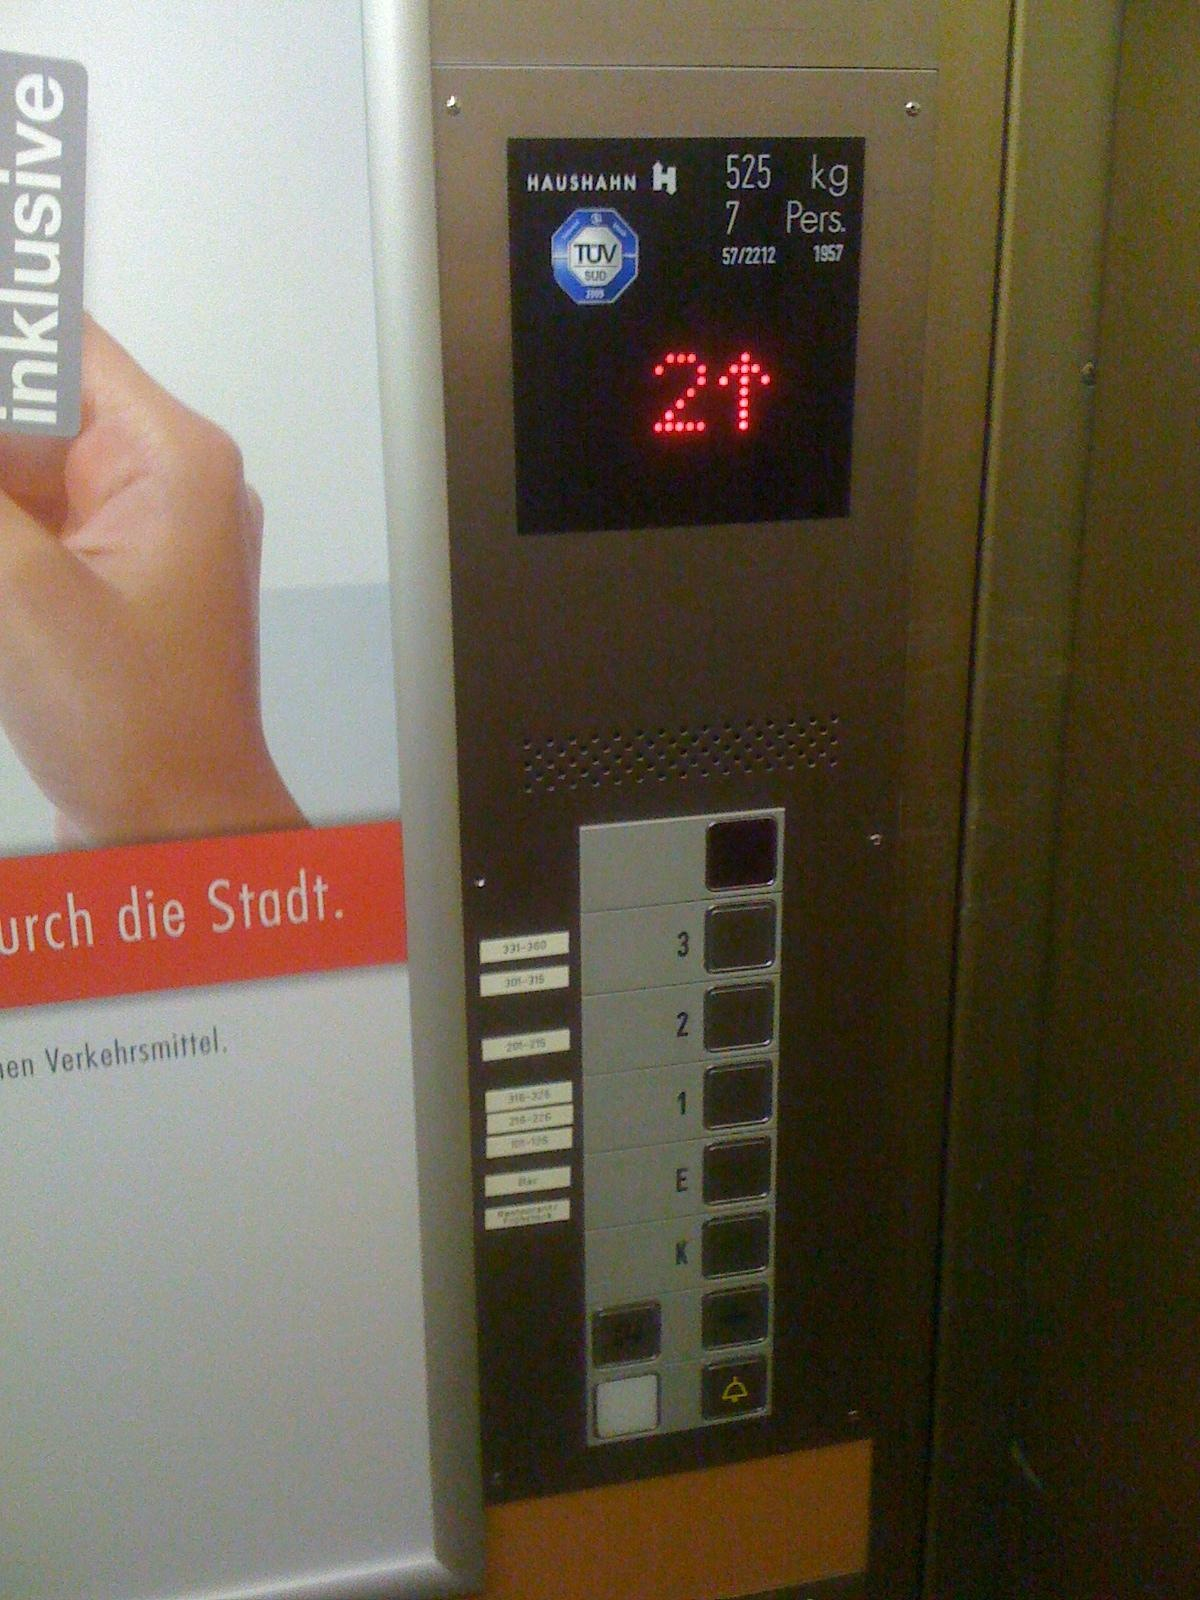1: (666, 1047, 787, 1138)
2: (666, 969, 787, 1065)
3: (666, 889, 787, 986)
E: (662, 1128, 783, 1213)
K: (658, 1203, 779, 1289)
alarm: (698, 1352, 771, 1425)
blur: (696, 1277, 773, 1356), (590, 1301, 664, 1371)
empty: (662, 806, 788, 905), (590, 1368, 663, 1441)
led: (494, 120, 874, 540)
